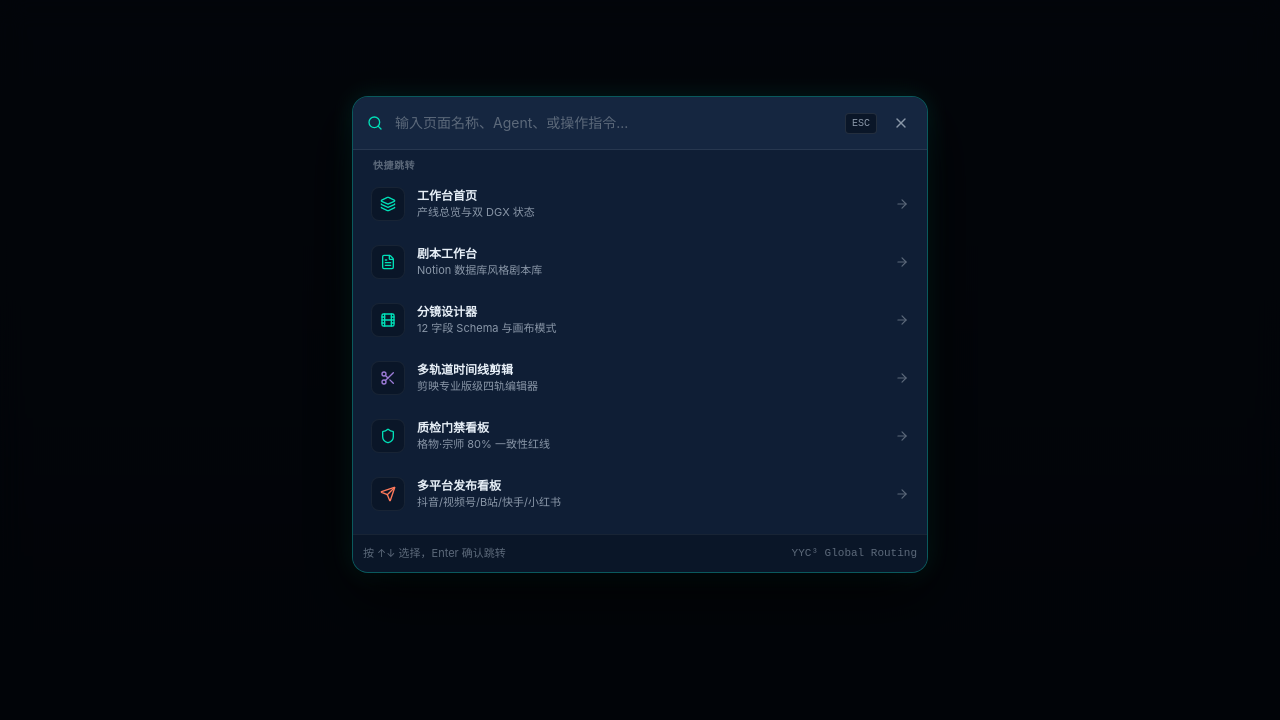
Test: GlobalCommandMenu jsdom 交互升级（R16-B：真实 DOM 状态迁移） › 搜索过滤：输入「登录」仅保留 Auth 组命中项（A01/A07），剔除未命中命令与空组
Step 1. Type "登录" into the field with placeholder "输入页面名称、Agent、或操作指令..." → (614, 123), box x1=395 y1=113 x2=833 y2=133
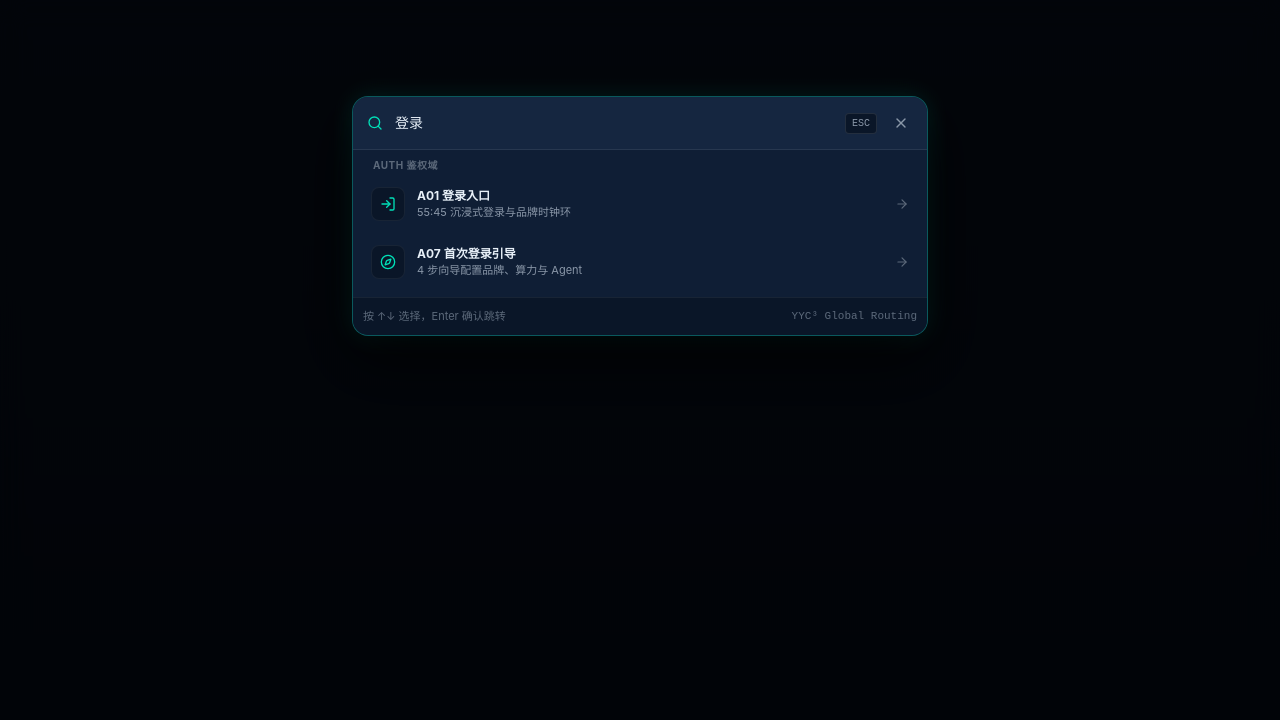
Expected: the button "工作台首页" is gone
Expected: the text "快捷跳转" is gone
Expected: the heading "A01 登录入口" is shown, x1=417 y1=188 x2=490 y2=203
